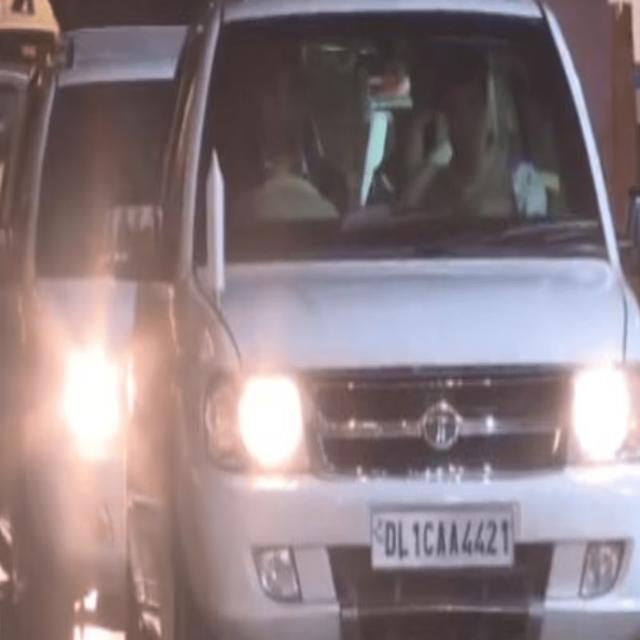plate: (367, 501, 519, 572)
